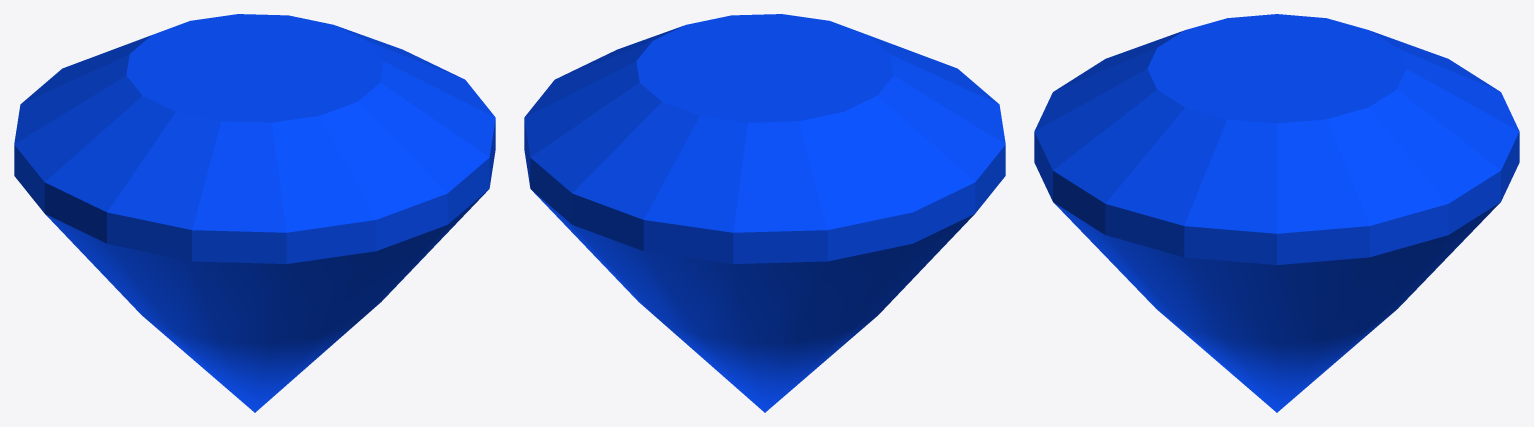
File: Blue Gem.FBX
3 views of the same model, side by side, from view 1: azimuth 30°, elevation 25°; view 2: azimuth 150°, elevation 25°; view 3: azimuth 270°, elevation 25° (orthographic).
Visible parts, largest first — view 1: Blue Gem; view 2: Blue Gem; view 3: Blue Gem.
Boxes of the visible parts, left/top/right/bottom form: Blue Gem: left=14, top=14, right=495, bottom=412; Blue Gem: left=524, top=14, right=1005, bottom=412; Blue Gem: left=1034, top=14, right=1519, bottom=412.
Size of the model in its own units: 0.1 by 0.0783 by 0.1.
